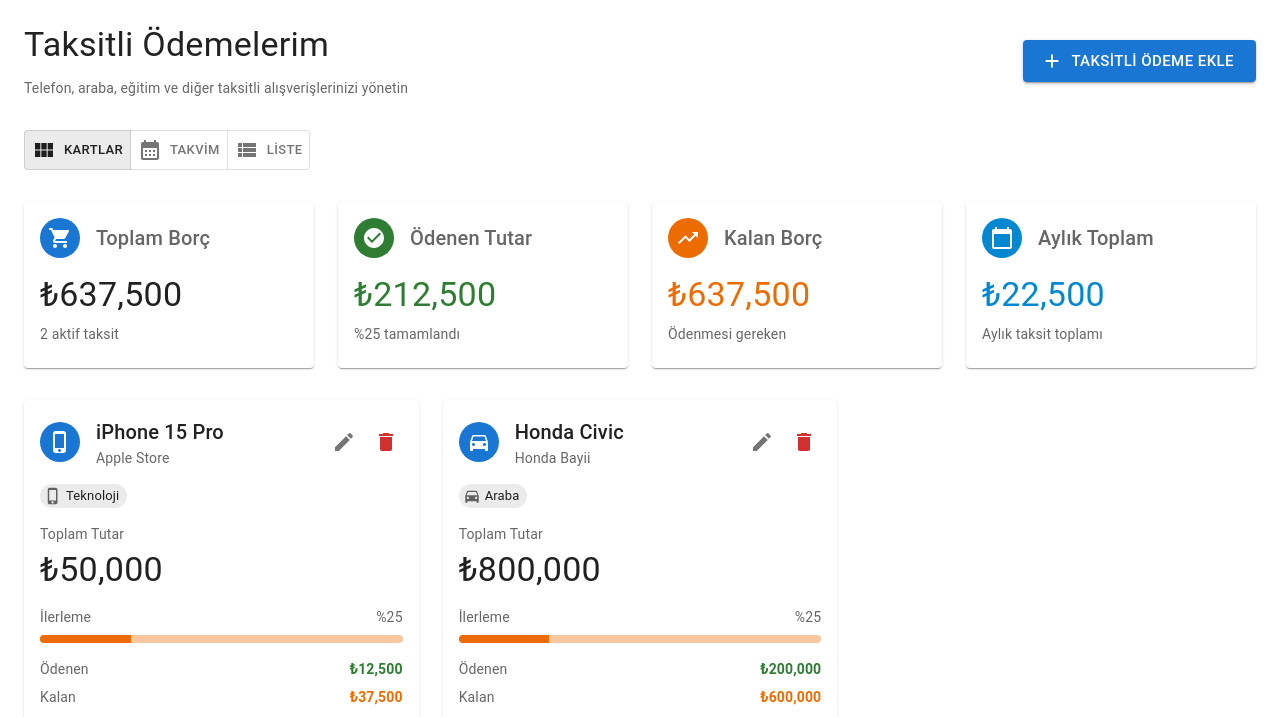
Test: InstallmentPaymentsPage › Modal Interactions › opens add payment dialog when add button is clicked
The width and height of the screenshot is (1280, 717).
Expected: the heading "iPhone 15 Pro" is shown, left=96, top=420, right=224, bottom=444
Click the button "Taksitli Ödeme Ekle". click: (1140, 61)
box: left=1023, top=40, right=1256, bottom=82
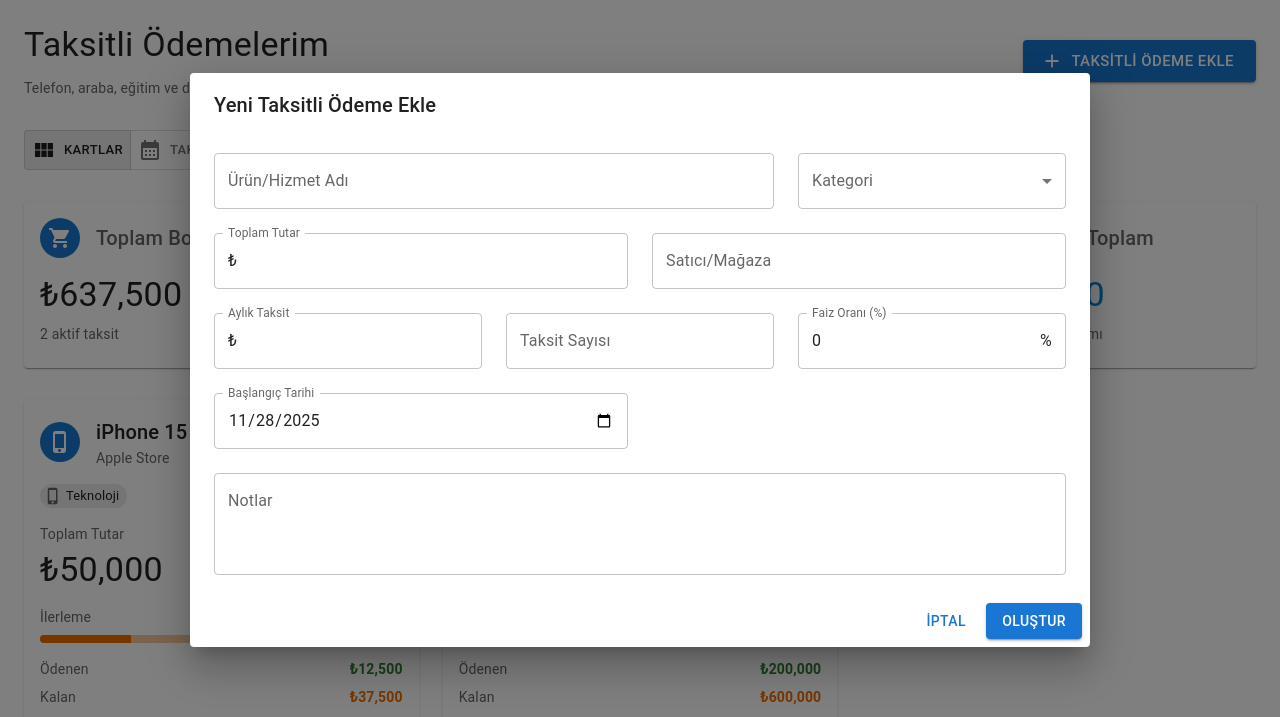
Expected: the heading "Yeni Taksitli Ödeme Ekle" is shown, left=214, top=93, right=436, bottom=117
